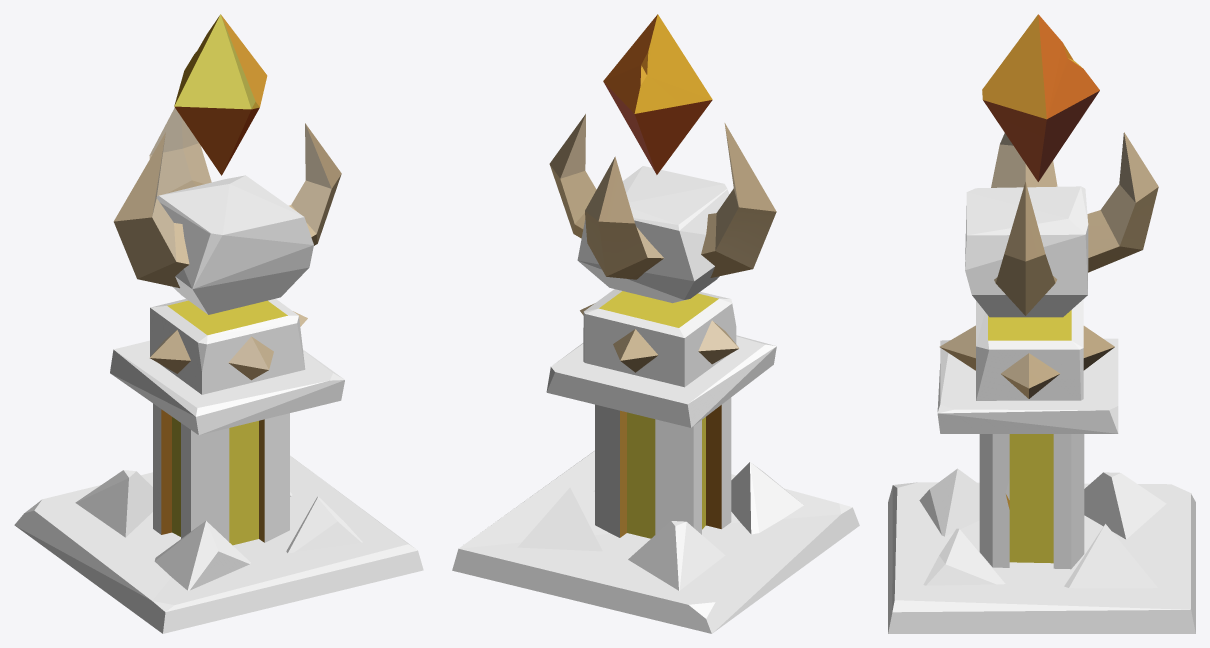
Rendered from Evil_Building_3.fbx.
The picture shows the model from 3 angles, left to right: view 1: azimuth 30°, elevation 25°; view 2: azimuth 150°, elevation 25°; view 3: azimuth 270°, elevation 25°; orthographic projection. The views are drawn at different scales.
Parts seen in each view (by area): view 1: Evil_Building_3; view 2: Evil_Building_3; view 3: Evil_Building_3.
Part boxes in pixels (x1=…): Evil_Building_3: x1=14, y1=14, x2=423, y2=633; Evil_Building_3: x1=452, y1=14, x2=859, y2=633; Evil_Building_3: x1=888, y1=14, x2=1195, y2=633.
Bounding box in the file's own units: 64.47 × 126 × 63.63.
